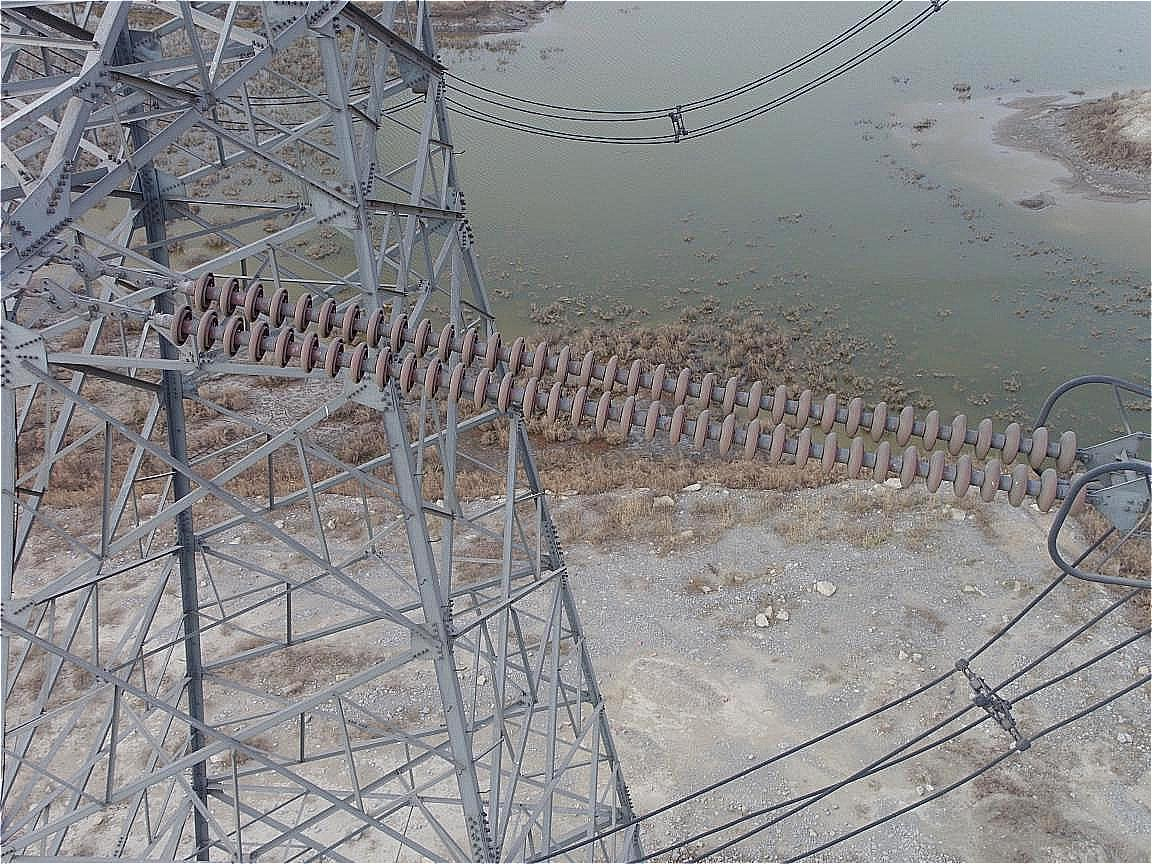insultor1: (115, 273, 1103, 508)
